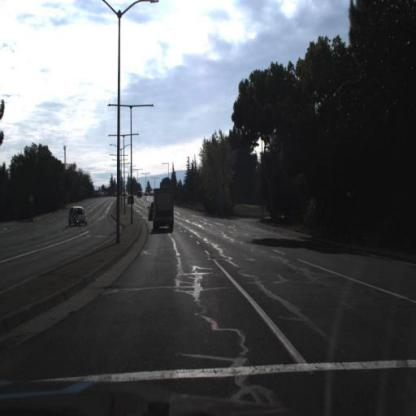car: (68, 205, 90, 230), (146, 203, 155, 228), (148, 202, 156, 223), (127, 196, 135, 207), (137, 191, 144, 199)
truck: (153, 187, 176, 234)
